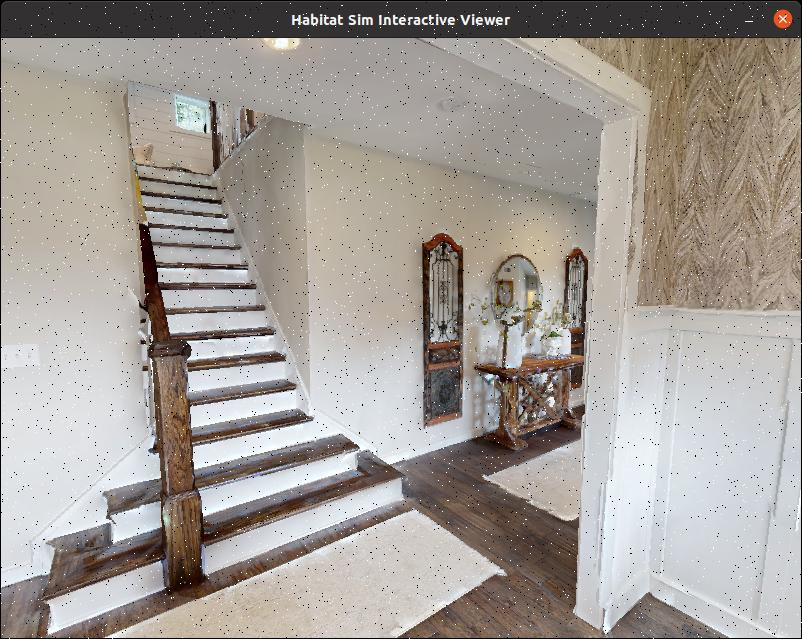stairs: (55, 65, 409, 632)
